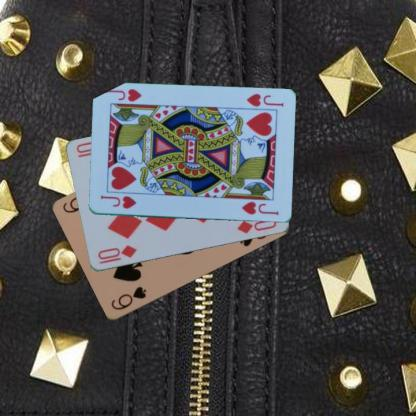10d: (95, 243, 138, 265)
6s: (108, 284, 148, 311)
Jh: (244, 91, 285, 108), (98, 193, 137, 210)
